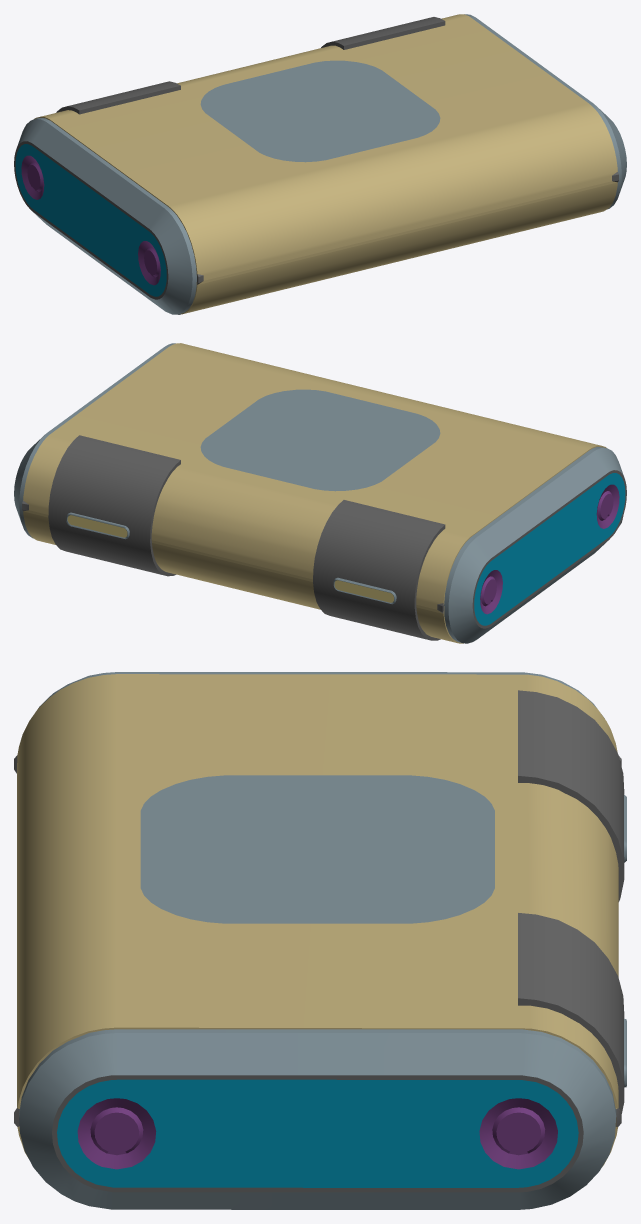
File: env_building_warehouse02_lod2.fbx
3 views of the same model, one above another, from view 1: azimuth 30°, elevation 25°; view 2: azimuth 150°, elevation 25°; view 3: azimuth 270°, elevation 25° (orthographic). The views are drawn at different scales.
Visible parts, largest first — view 1: env_building_warehouse02_lod2; view 2: env_building_warehouse02_lod2; view 3: env_building_warehouse02_lod2.
Part boxes in pixels (x1,y1,x2,y2): env_building_warehouse02_lod2: (14, 14, 626, 314); env_building_warehouse02_lod2: (14, 343, 626, 643); env_building_warehouse02_lod2: (14, 672, 626, 1209).
Size of the model in its own units: 567 by 133 by 381.
